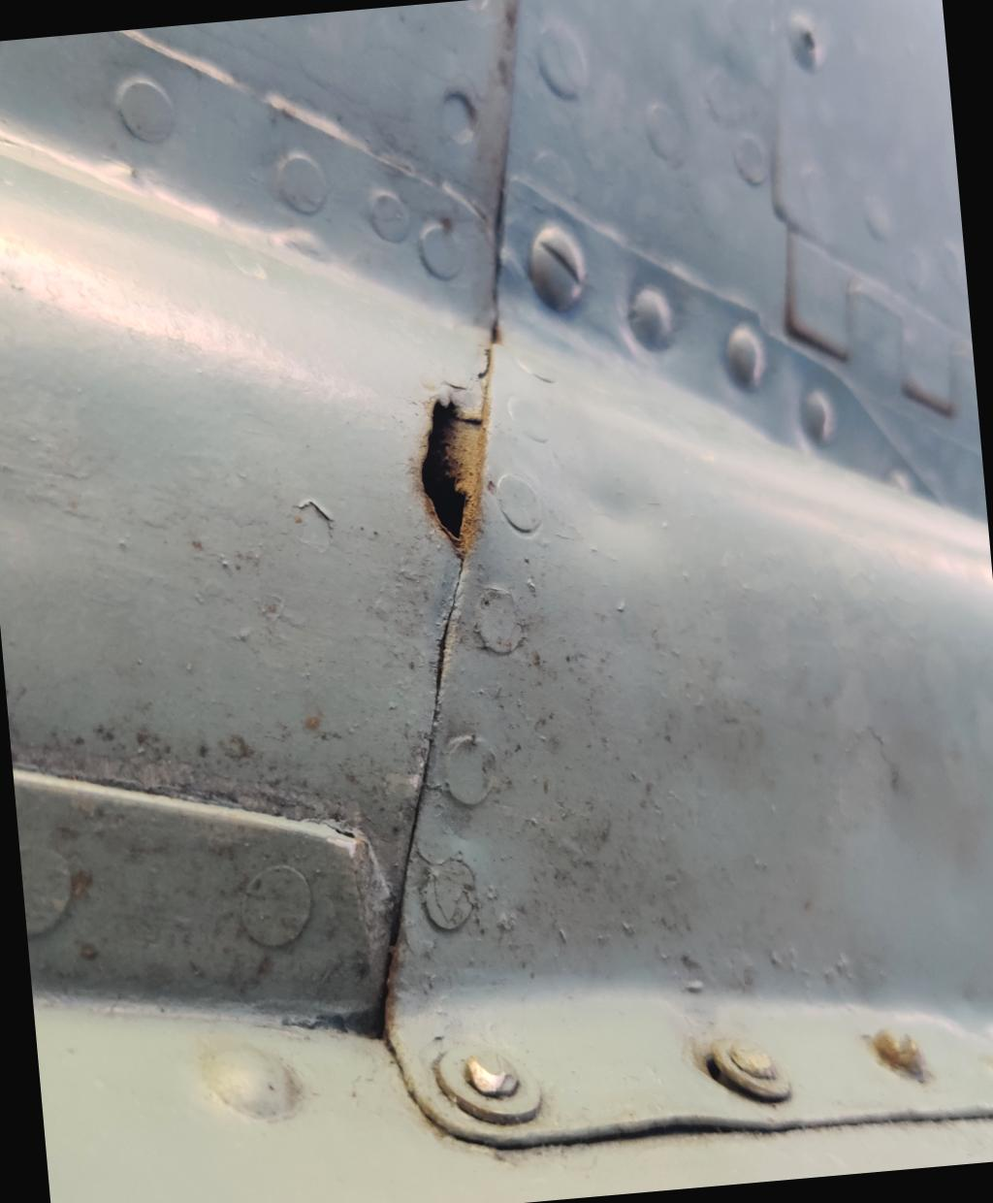crack: (492, 464, 707, 631)
